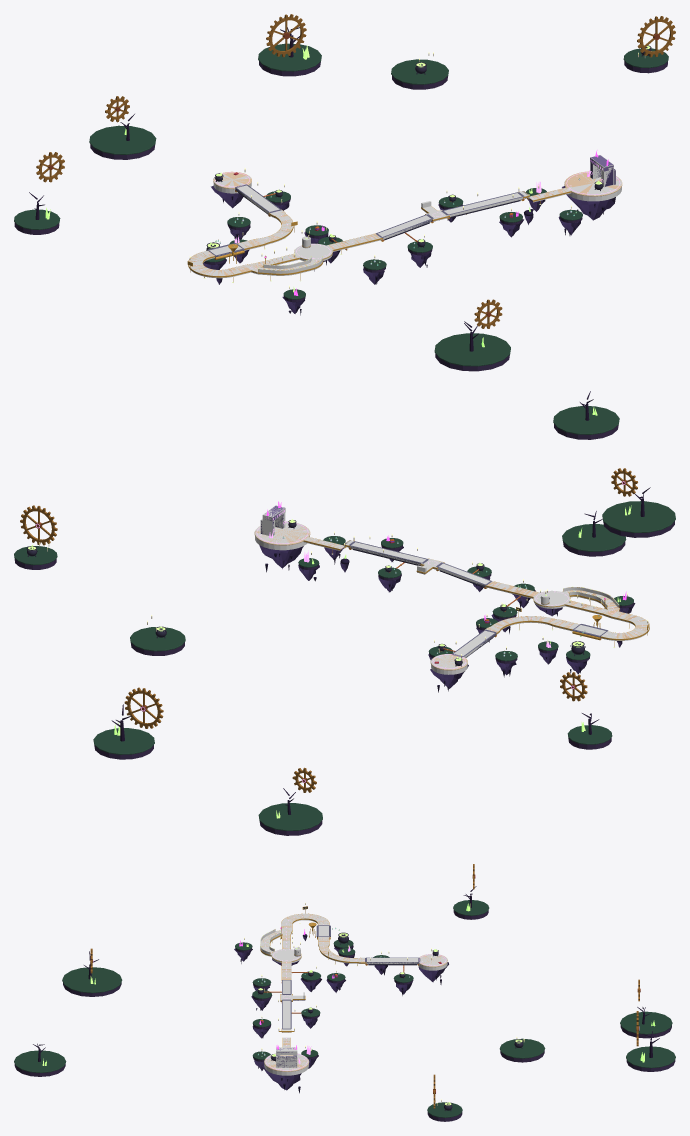
3 views of the same model, one above another, from view 1: azimuth 30°, elevation 25°; view 2: azimuth 150°, elevation 25°; view 3: azimuth 270°, elevation 25° (orthographic). The views are drawn at different scales.
Visible parts, largest first — view 1: V_grass_dark, C_4, V_dirt, V_rock, V_walk, V_brass, V_metal, V_brass.005, V_iron, V_brass.001; view 2: V_grass_dark, C_4, V_dirt, V_rock, V_walk, V_brass, V_metal, V_iron, V_brass.005, V_brass.001, C_7, V_beam_dark; view 3: V_grass_dark, C_4, V_dirt, V_rock, V_walk, V_brass, V_iron, V_metal, C_7.
Boxes of the visible parts, x1,y1,x2,y2 form: V_grass_dark: (14, 43, 668, 434); C_4: (189, 171, 621, 278); V_dirt: (14, 61, 667, 439); V_rock: (203, 185, 615, 313); V_walk: (190, 171, 622, 275); V_brass: (187, 173, 571, 281); V_metal: (207, 184, 524, 257); V_brass.005: (266, 14, 306, 57); V_iron: (206, 45, 651, 250); V_brass.001: (637, 16, 675, 57); V_grass_dark: (14, 501, 675, 830); C_4: (255, 521, 649, 674); V_dirt: (14, 521, 674, 835); V_rock: (259, 545, 635, 688); V_walk: (254, 525, 649, 670); V_brass: (303, 538, 649, 662); V_metal: (349, 541, 608, 657); V_iron: (26, 520, 585, 666); V_brass.005: (124, 687, 163, 728); V_brass.001: (20, 505, 57, 545); C_7: (260, 505, 426, 572); V_beam_dark: (111, 487, 650, 814); V_grass_dark: (14, 900, 675, 1117); C_4: (261, 913, 447, 1075); V_dirt: (14, 910, 675, 1121); V_rock: (234, 935, 448, 1090); V_walk: (261, 914, 447, 1071); V_brass: (260, 906, 440, 1046); V_iron: (257, 932, 523, 1110); V_metal: (282, 925, 420, 1029); C_7: (276, 992, 304, 1067).
Size of the model in its own units: 154 by 33.56 by 178.
